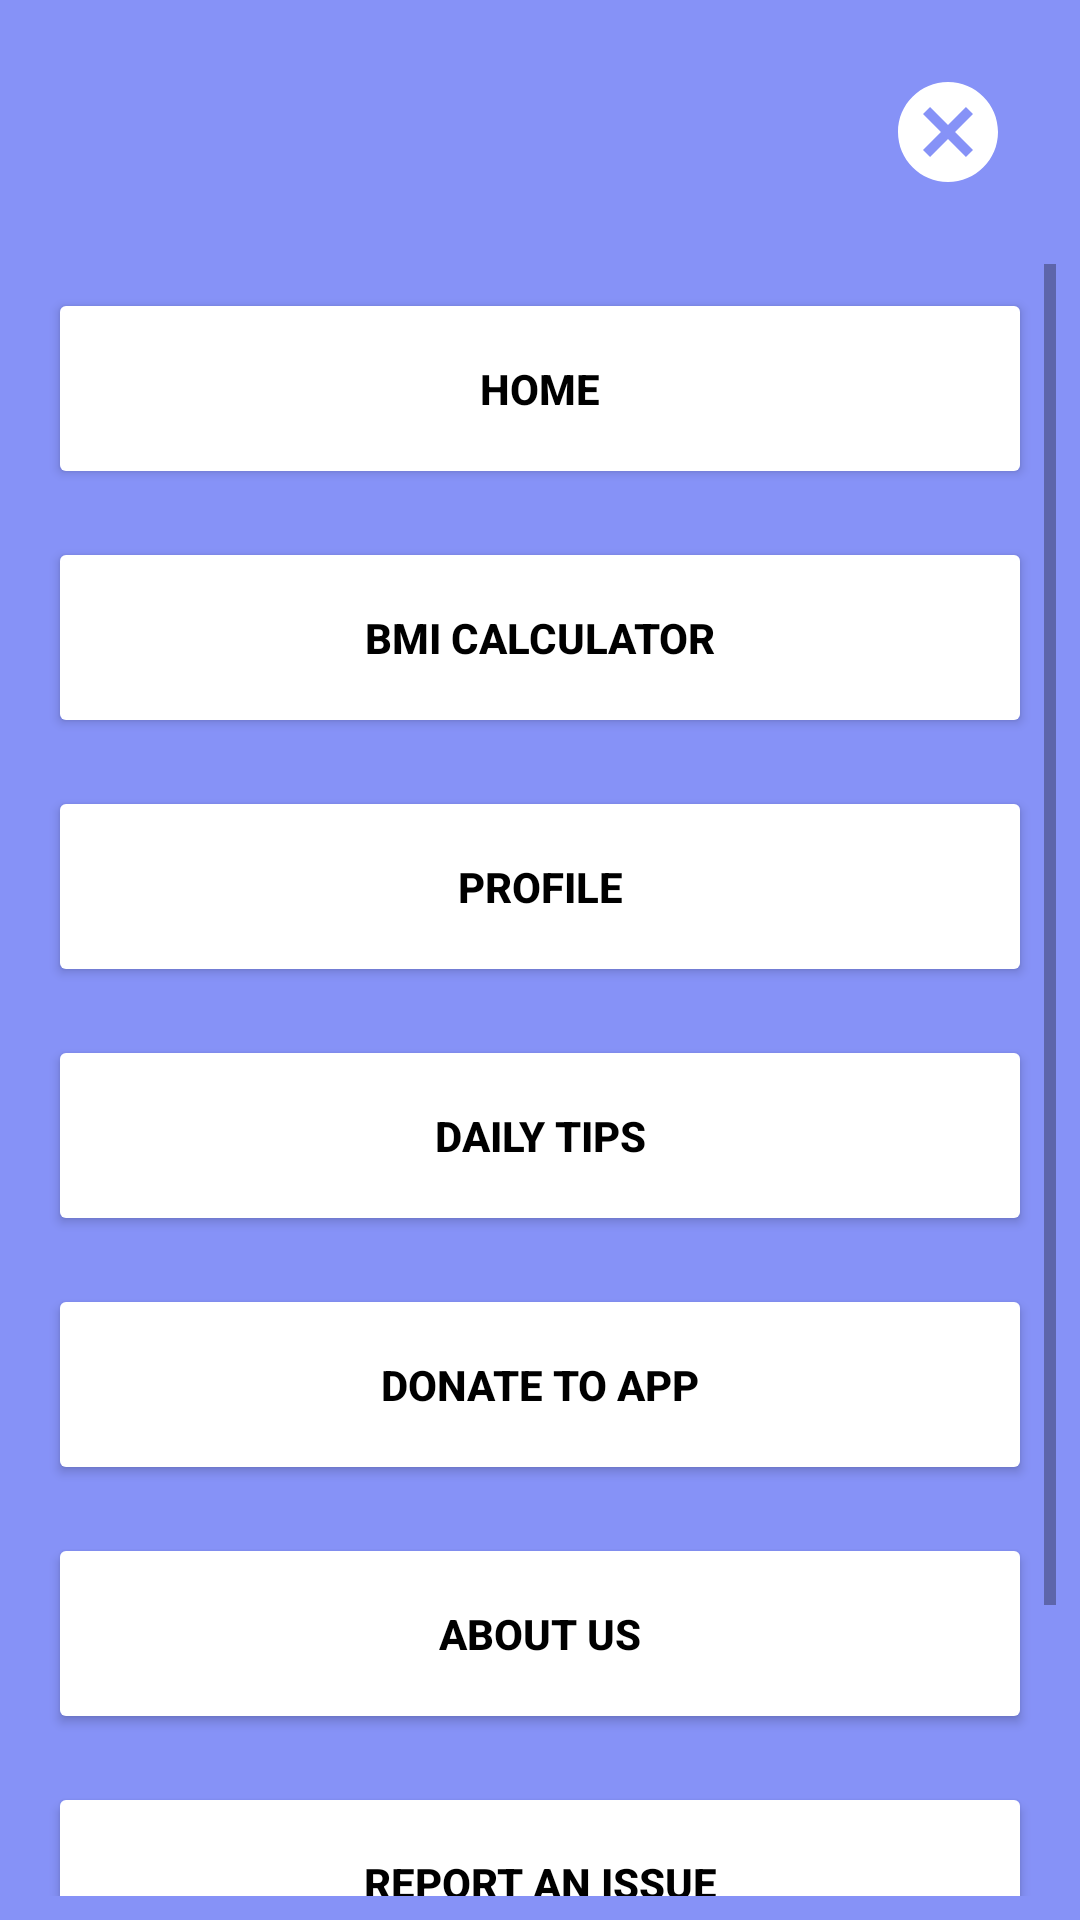

Named icons in this screenshot (1080×1920) and their centers, (x,y):
Close: (948,132)
